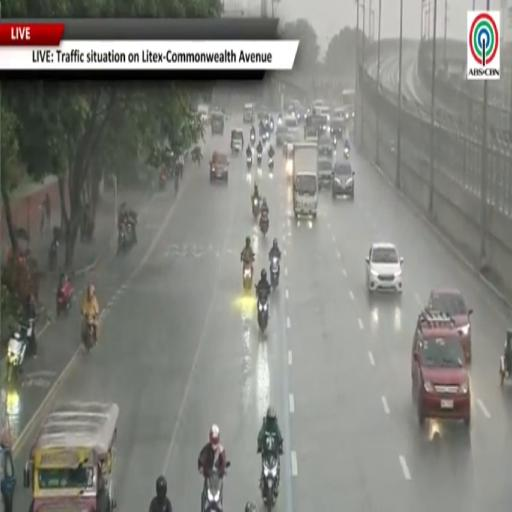car: (412, 309, 470, 425), (427, 290, 473, 361), (366, 243, 403, 293), (332, 160, 354, 199), (210, 151, 229, 182), (318, 155, 332, 188), (210, 110, 224, 135), (318, 134, 333, 157), (276, 124, 288, 147), (287, 127, 302, 142), (243, 103, 254, 123), (198, 104, 209, 123), (284, 115, 298, 127)
jeepney: (24, 402, 119, 511)
motorcycle: (7, 320, 34, 381), (261, 434, 279, 510), (261, 454, 279, 511), (202, 471, 223, 511), (56, 280, 74, 316), (500, 329, 511, 386), (117, 222, 134, 253), (82, 315, 95, 353), (257, 294, 268, 332), (49, 238, 59, 271), (270, 256, 279, 289), (243, 263, 253, 292), (259, 211, 269, 235), (252, 198, 260, 219), (159, 172, 167, 190), (256, 152, 262, 168), (268, 156, 273, 171), (247, 156, 252, 170), (262, 131, 267, 143), (250, 133, 255, 145), (344, 147, 349, 158), (333, 135, 337, 148), (270, 121, 274, 133), (278, 115, 282, 124)
truck: (293, 142, 318, 217)
